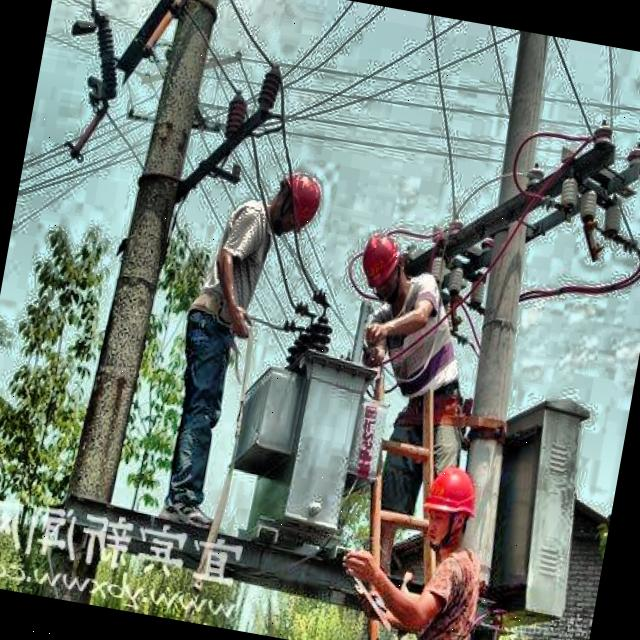helmet: (415, 458, 484, 550), (348, 221, 415, 304), (265, 162, 333, 238)
